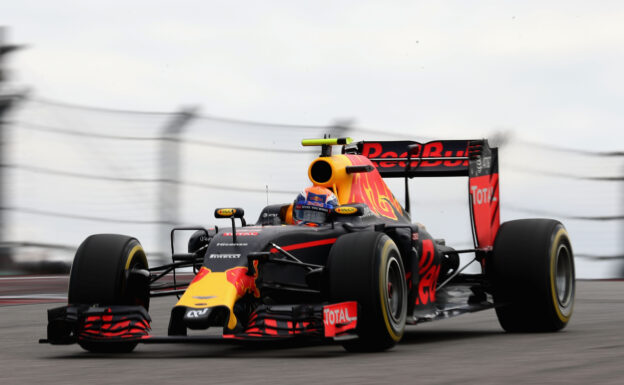Bobsleigh: (68, 153, 577, 356)
